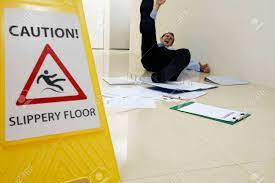wet caution sign: (0, 0, 146, 180)
